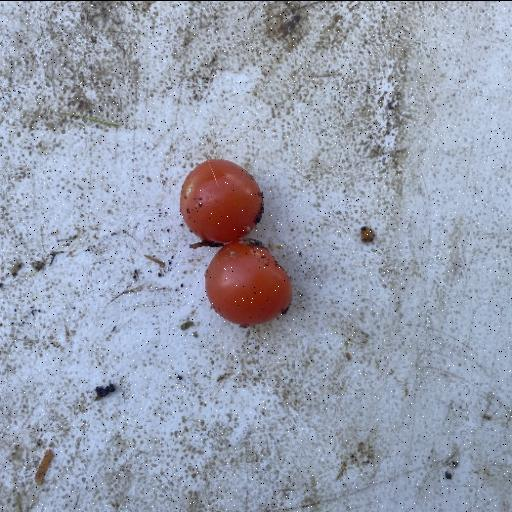Waste: (203, 238, 293, 328), (178, 158, 265, 246)
